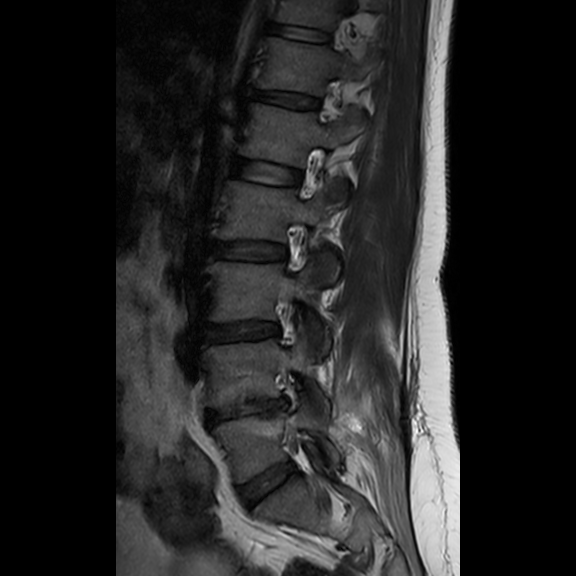RFS0: (253, 292, 314, 360), (270, 214, 331, 282), (288, 143, 349, 211)
